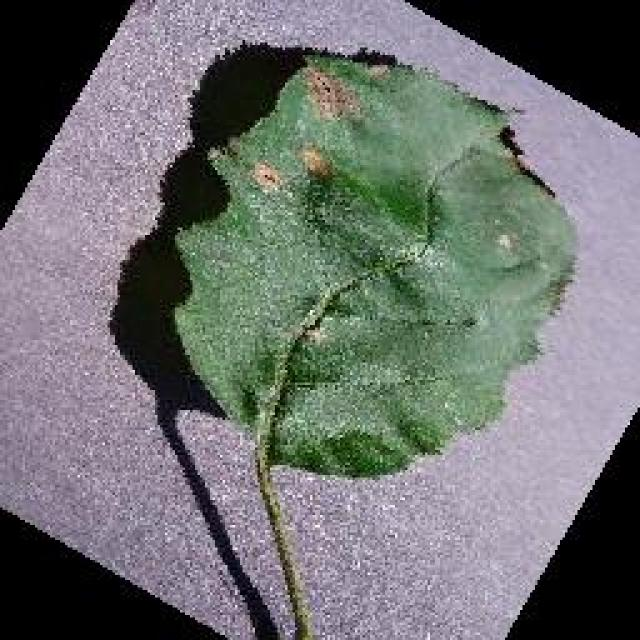Black_rot: (168, 48, 578, 480)
